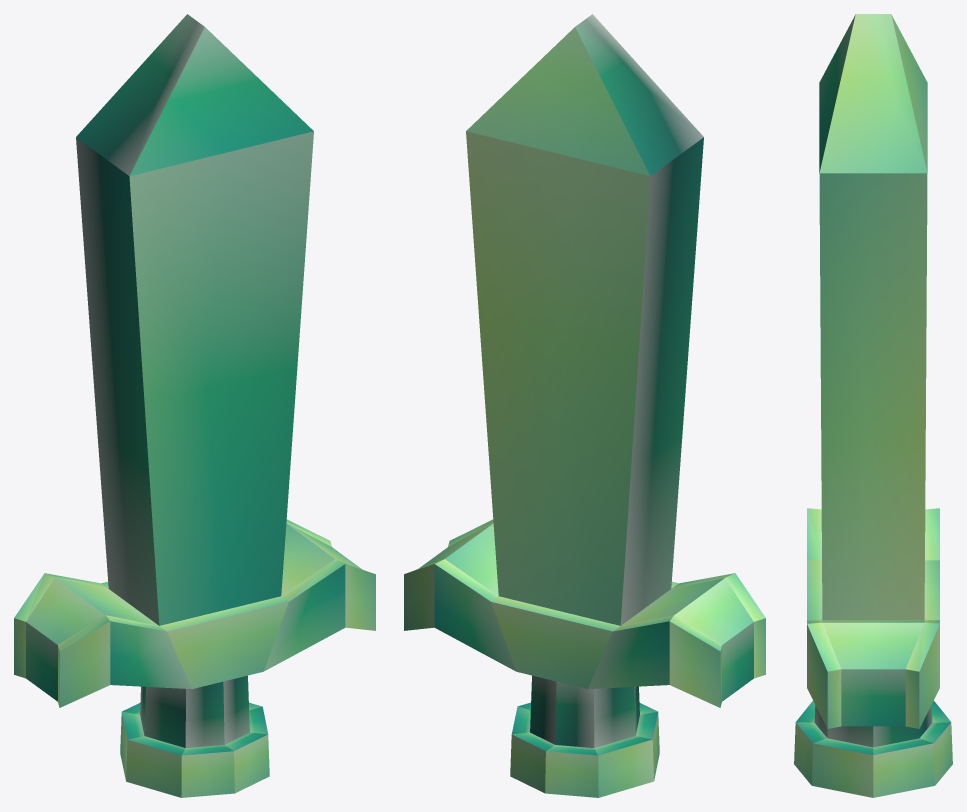
File: sword05.fbx
3 renders of one model, left to right at view 1: azimuth 30°, elevation 25°; view 2: azimuth 150°, elevation 25°; view 3: azimuth 270°, elevation 25°, orthographic.
Visible parts, largest first — view 1: sword05; view 2: sword05; view 3: sword05.
Part boxes in pixels (box(x1,y1,x2,y2)): sword05: box(14, 14, 375, 797); sword05: box(404, 14, 765, 797); sword05: box(794, 14, 952, 797).
Bounding box in the file's own units: 57.91 × 130 × 24.97.
